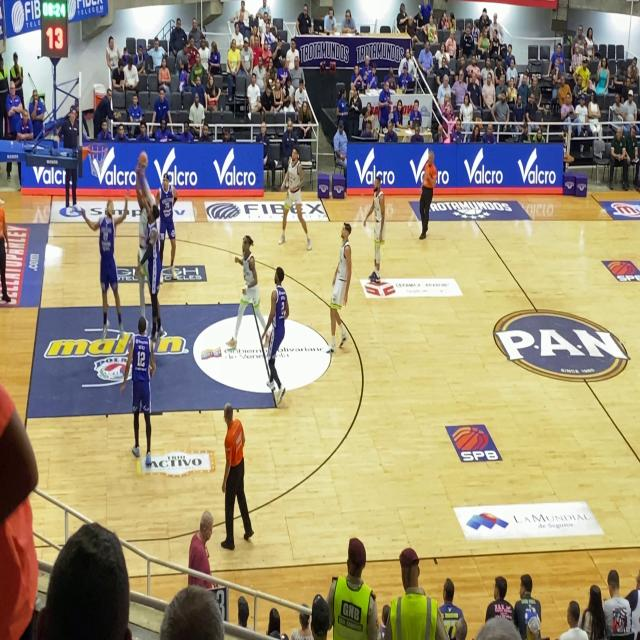Ball: (137, 148, 150, 173)
referee: (409, 137, 442, 247)
team1: (217, 384, 261, 559), (320, 214, 358, 358), (229, 228, 270, 357), (274, 142, 314, 256), (364, 175, 388, 288)
team2: (82, 186, 125, 347), (121, 304, 158, 473), (256, 255, 292, 412), (144, 192, 167, 329), (155, 170, 182, 286)
